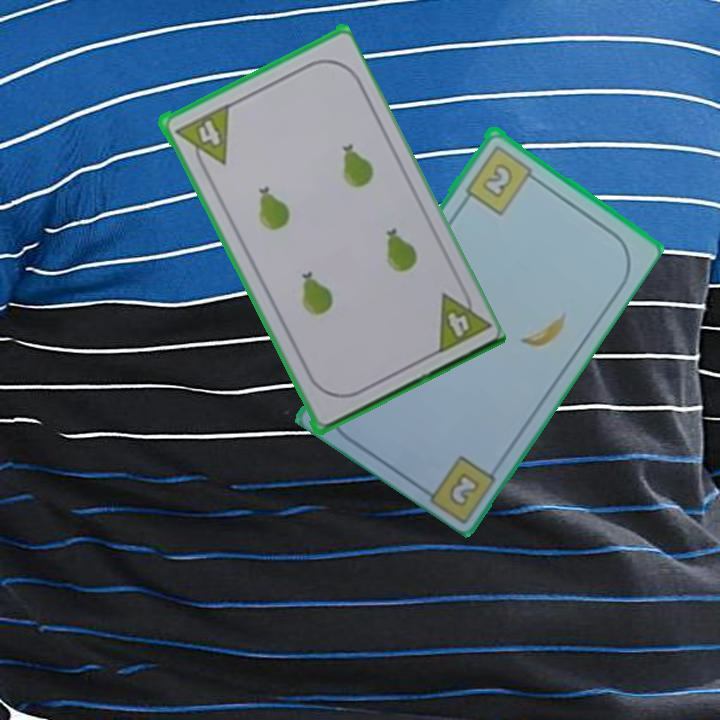2b: (461, 140, 541, 217), (445, 468, 483, 510)
4p: (190, 104, 232, 164), (442, 308, 472, 340)
